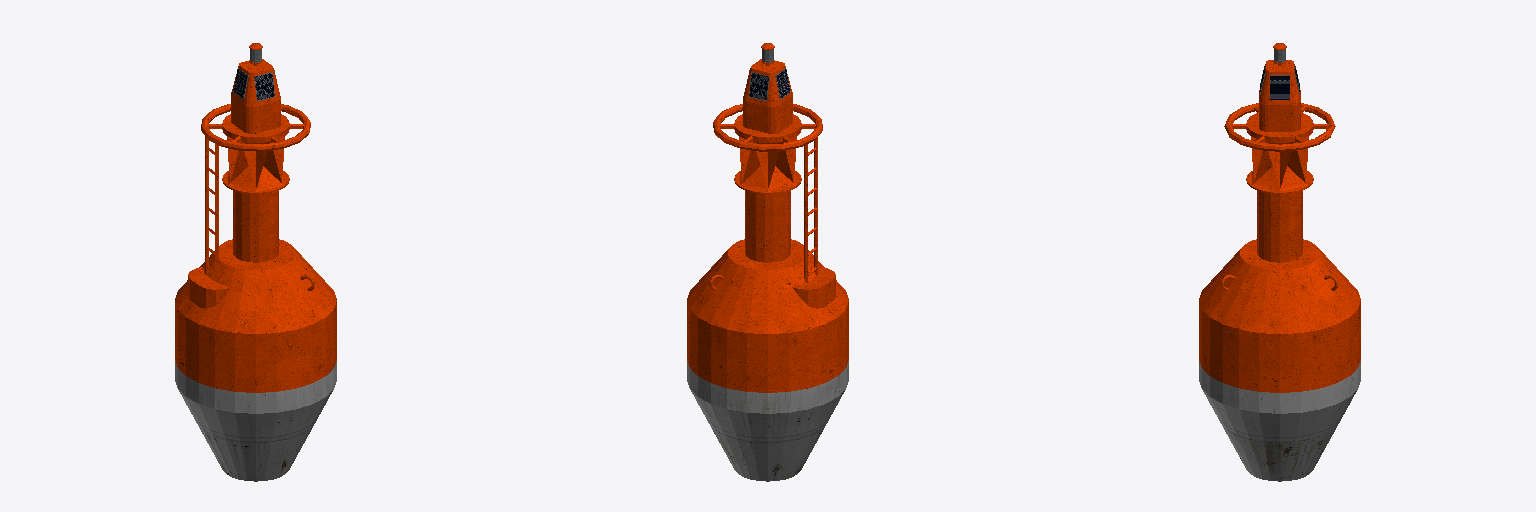
The picture shows the model from 3 angles: view 1: azimuth 30°, elevation 25°; view 2: azimuth 150°, elevation 25°; view 3: azimuth 270°, elevation 25°; orthographic projection.
Parts seen in each view (by area): view 1: BuoyMain, BuoyBelowSurface, BuoyHead, BuoyTower, BuoyReflector, BuoyLadder, SolarPanel; view 2: BuoyMain, BuoyBelowSurface, BuoyHead, BuoyTower, BuoyReflector, BuoyLadder, SolarPanel; view 3: BuoyMain, BuoyBelowSurface, BuoyHead, BuoyTower, BuoyReflector, SolarPanel.
Boxes of the visible parts, x1=… form: BuoyMain: x1=175, y1=239, x2=336, y2=392; BuoyBelowSurface: x1=175, y1=361, x2=336, y2=481; BuoyHead: x1=201, y1=43, x2=310, y2=151; BuoyTower: x1=222, y1=171, x2=289, y2=262; BuoyReflector: x1=227, y1=136, x2=284, y2=191; BuoyLadder: x1=205, y1=136, x2=218, y2=281; SolarPanel: x1=233, y1=68, x2=276, y2=100; BuoyMain: x1=687, y1=239, x2=848, y2=392; BuoyBelowSurface: x1=687, y1=361, x2=848, y2=481; BuoyHead: x1=713, y1=43, x2=822, y2=151; BuoyTower: x1=734, y1=171, x2=801, y2=262; BuoyReflector: x1=739, y1=136, x2=796, y2=191; BuoyLadder: x1=804, y1=138, x2=817, y2=282; SolarPanel: x1=747, y1=68, x2=790, y2=100; BuoyMain: x1=1199, y1=239, x2=1360, y2=392; BuoyBelowSurface: x1=1199, y1=361, x2=1360, y2=481; BuoyHead: x1=1224, y1=43, x2=1335, y2=151; BuoyTower: x1=1246, y1=171, x2=1313, y2=262; BuoyReflector: x1=1251, y1=136, x2=1308, y2=191; SolarPanel: x1=1260, y1=66, x2=1299, y2=99.
Size of the model in its own units: 2.5 by 7.19 by 2.5.
3 materials, 3 textured.